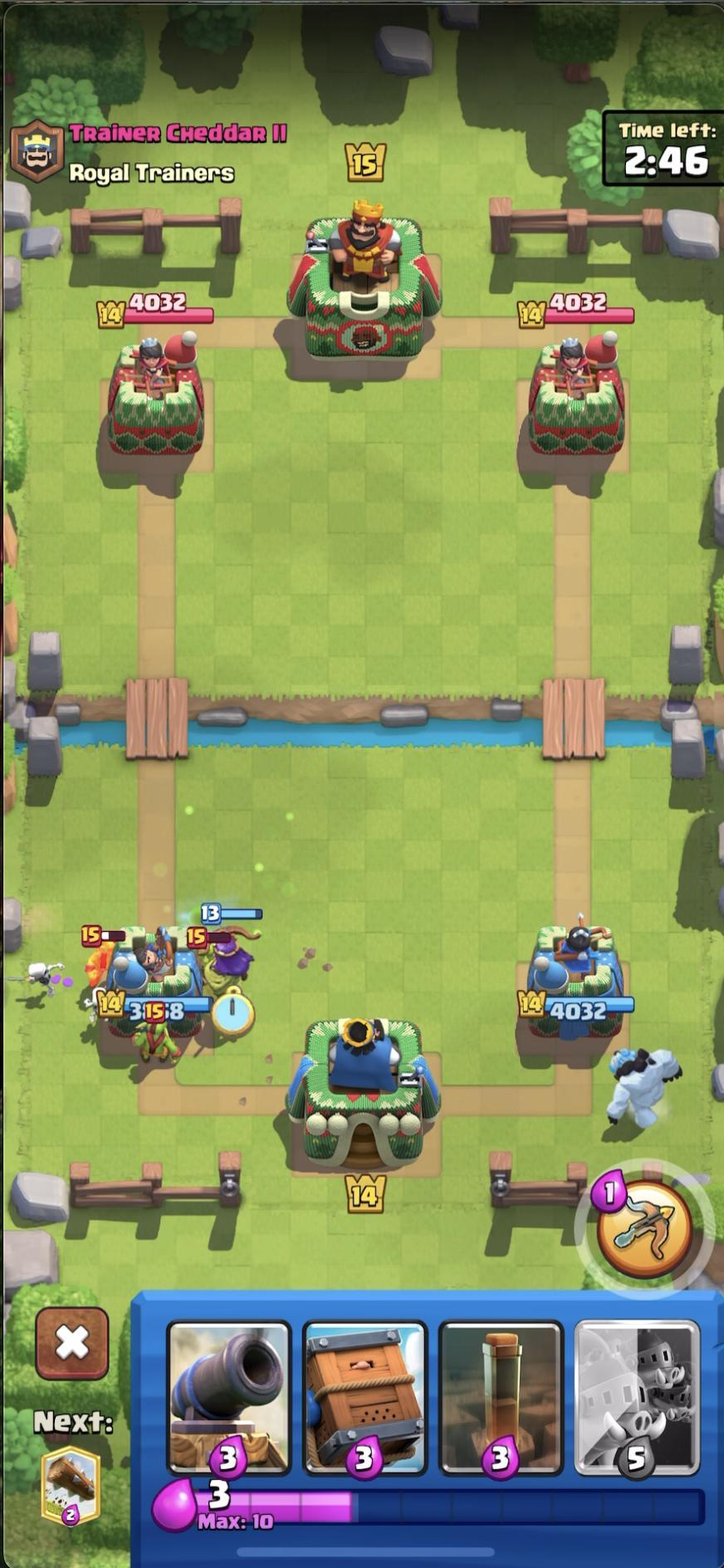card_cannon: (166, 1317, 294, 1476)
card_earthquake: (438, 1316, 563, 1477)
card_log: (39, 1446, 105, 1529)
card_royaldelivery: (301, 1318, 425, 1478)
card_royalhogs: (572, 1318, 706, 1478)
